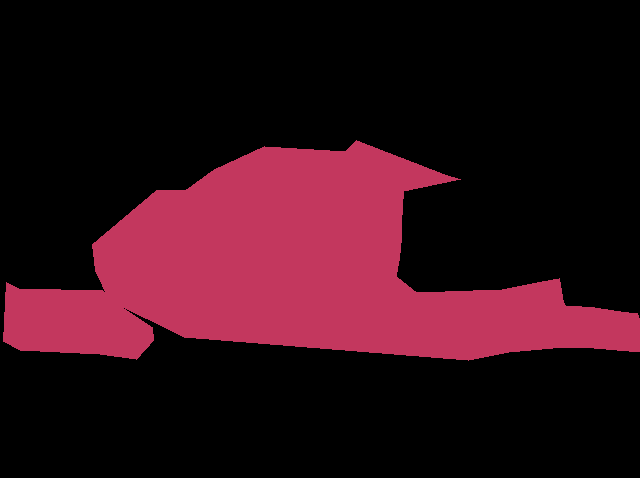Airplane: (92, 140, 640, 361), (3, 282, 154, 359)
